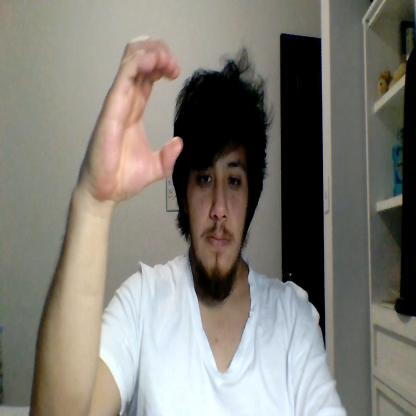C: (87, 37, 180, 200)
